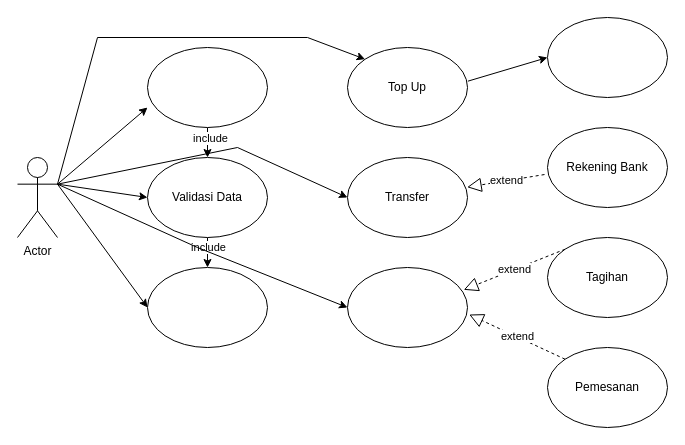
Some shapes in this 685 by 445 pixel diagram are drawn without their labels. The shapes that lost their labels are listed below. From the top down, each one's centre as x and y in pixels, then its label:
At (x=607, y=57): "Saldo".
At (x=207, y=87): "Register".
At (x=207, y=307): "Login".
At (x=407, y=307): "Payment".
